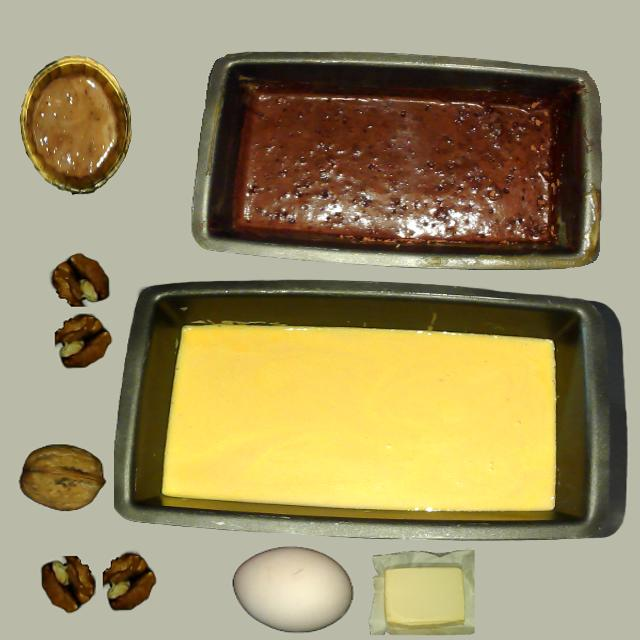Walnut: (15, 431, 109, 527), (19, 444, 104, 512)
